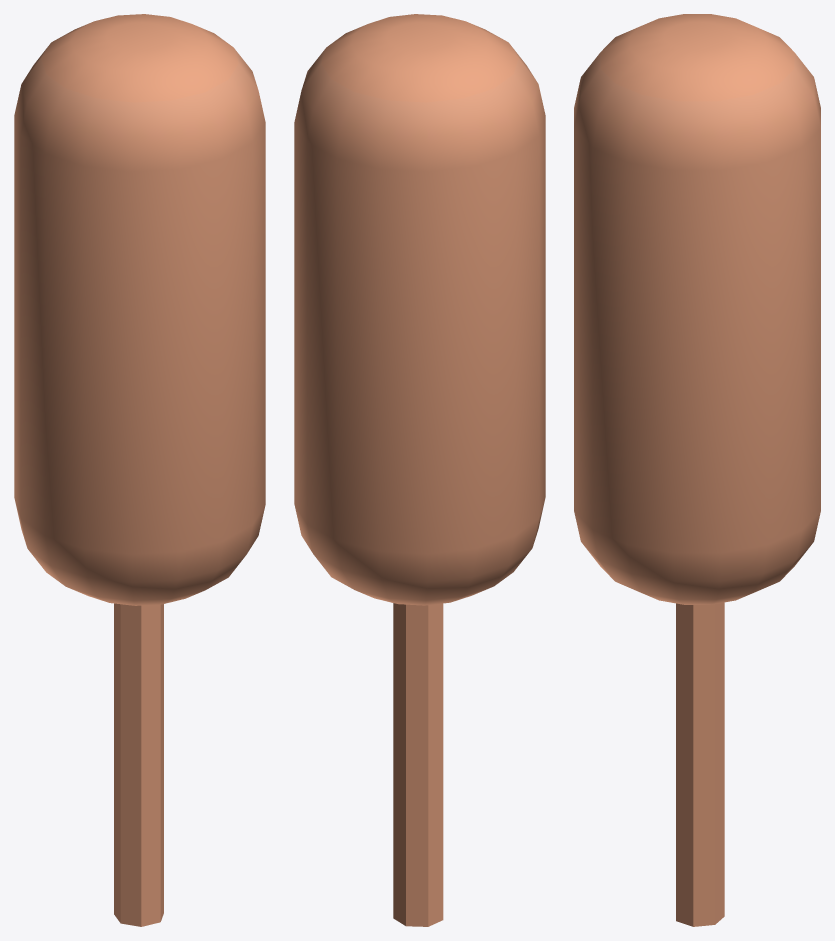
File: Tree.glb
The picture shows the model from 3 angles, left to right: view 1: azimuth 30°, elevation 25°; view 2: azimuth 150°, elevation 25°; view 3: azimuth 270°, elevation 25°; orthographic projection.
Parts seen in each view (by area): view 1: Cylinder.001; view 2: Cylinder.001; view 3: Cylinder.001.
Part boxes in pixels (box(x1,y1,x2,y2)): Cylinder.001: box(14, 14, 265, 926); Cylinder.001: box(294, 14, 545, 926); Cylinder.001: box(574, 14, 820, 926).
Size of the model in its own units: 0.3808 by 1.5 by 0.3808.
1 material, 1 textured.
